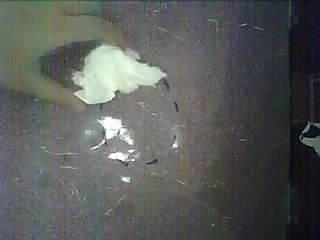paper: (73, 44, 167, 104)
